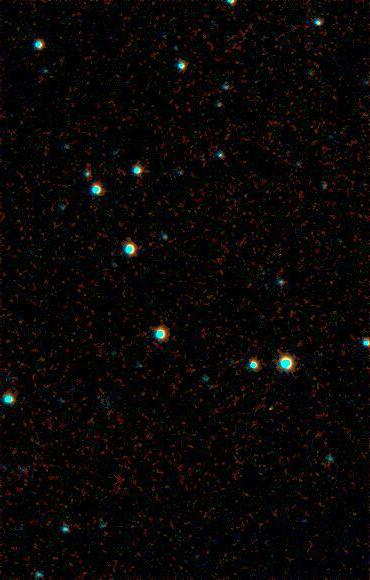star: (253, 392, 283, 422)
